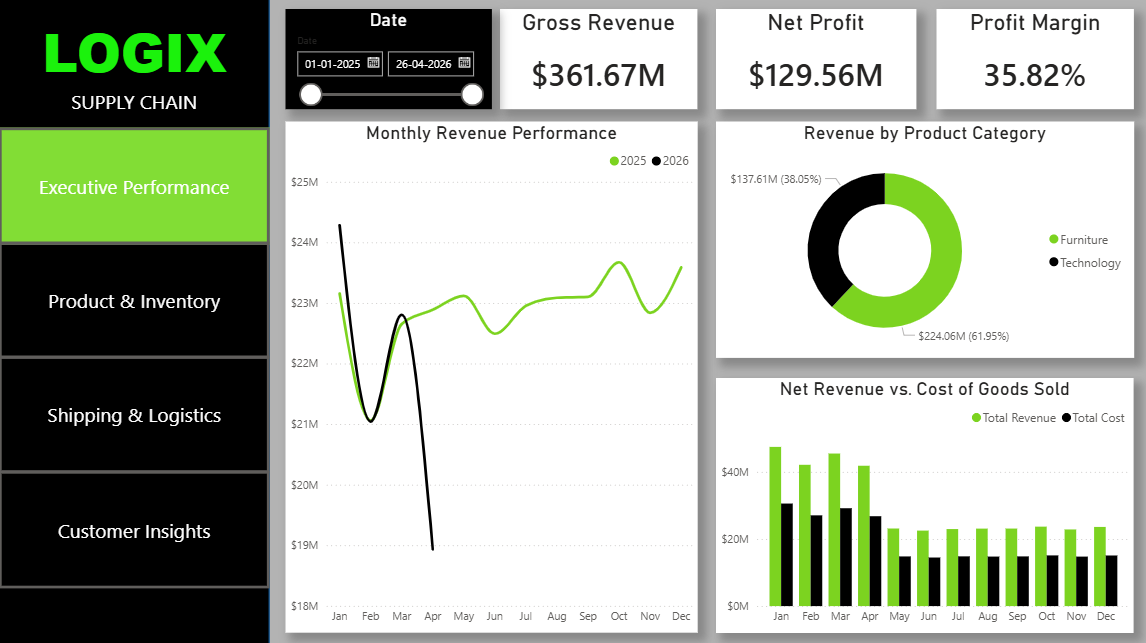

What the dashboard file says about the page in this screenshot:
{"tool":"powerbi","page":{"name":"Executive Performance","canvas":[1280,720],"ordinal":0},"visuals":[{"type":"cardVisual","title":"Gross Revenue","fields":{"Data":["_Measures.Total Revenue"]},"box":[556.7,12.7,219.5,111.3],"z":0},{"type":"shape","box":[0,0,300.6,720.5],"z":1000,"group":"g1"},{"type":"cardVisual","title":"Net Profit","fields":{"Data":["_Measures.Total Profit"]},"box":[796.9,12.7,222.7,111.3],"z":1000},{"type":"cardVisual","title":"Profit Margin","fields":{"Data":["_Measures.Profit Margin"]},"box":[1041.9,12.7,219.5,111.3],"z":2000},{"type":"actionButton","box":[0,144.7,300.6,130.4],"z":2000,"group":"g1"},{"type":"donutChart","title":"Revenue by Product Category","fields":{"Category":["products.category"],"Y":["_Measures.Total Revenue"]},"box":[796.9,138.4,464.5,262.5],"z":3000},{"type":"actionButton","box":[0,272,300.6,130.4],"z":3000,"group":"g1"},{"type":"actionButton","box":[0,399,300.6,130.4],"z":4000,"group":"g1"},{"type":"clusteredColumnChart","title":"Net Revenue vs. Cost of Goods Sold","fields":{"Category":["Calendar.Month Name"],"Y":["_Measures.Total Revenue","_Measures.Total Cost"]},"box":[797.3,423.7,464.1,283.1],"z":4000},{"type":"slicer","title":"Date","fields":{"Values":["Calendar.Date"]},"box":[318.1,12.7,229,111.3],"z":5000},{"type":"actionButton","box":[0,527,300.6,130.4],"z":5000,"group":"g1"},{"type":"lineChart","title":"Monthly Revenue Performance","fields":{"Y":["_Measures.Total Revenue"],"Category":["Calendar.Month Name"],"Series":["Calendar.Year"]},"box":[318.1,138.4,458.1,567.8],"z":6000},{"type":"group","id":"g1","title":"Group 1","box":[0,0,300.6,720.5],"z":7000},{"type":"textbox","title":"LOGIX SUPPLY CHAIN","box":[0,0,300.6,144.7],"z":9000,"group":"g1"}]}

Visuals, with their boxes in screenshot pixels (x1, y1, x2, y2), scaled from the page's 1280x720 canvas onto the 1146x643 screenshot:
"Gross Revenue" cardVisual: Rect(498, 11, 695, 111)
shape: Rect(0, 0, 269, 642)
"Net Profit" cardVisual: Rect(713, 11, 913, 111)
"Profit Margin" cardVisual: Rect(933, 11, 1129, 111)
actionButton: Rect(0, 129, 269, 246)
"Revenue by Product Category" donutChart: Rect(713, 124, 1129, 358)
actionButton: Rect(0, 243, 269, 359)
actionButton: Rect(0, 356, 269, 473)
"Net Revenue vs. Cost of Goods Sold" clusteredColumnChart: Rect(714, 378, 1129, 631)
"Date" slicer: Rect(285, 11, 490, 111)
actionButton: Rect(0, 471, 269, 587)
"Monthly Revenue Performance" lineChart: Rect(285, 124, 695, 631)
"Group 1" group: Rect(0, 0, 269, 642)
"LOGIX SUPPLY CHAIN" textbox: Rect(0, 0, 269, 129)
